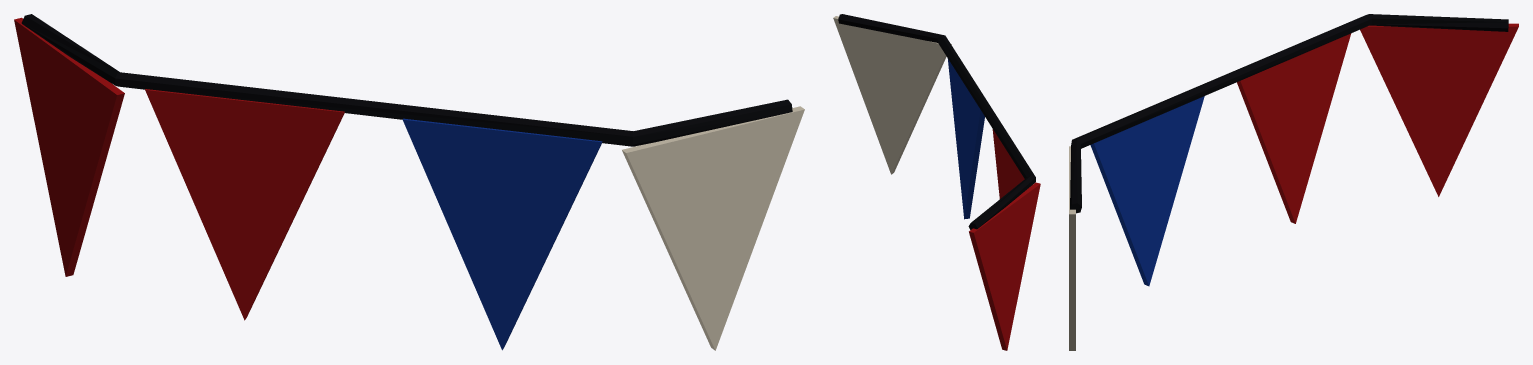
Rendered from Carnival_Run_Flags_InnerCorner.fbx.
3 views of the same model, side by side, from view 1: azimuth 30°, elevation 25°; view 2: azimuth 150°, elevation 25°; view 3: azimuth 270°, elevation 25° (orthographic). The views are drawn at different scales.
Parts seen in each view (by area): view 1: Carnival_Run_Flags_InnerCorner; view 2: Carnival_Run_Flags_InnerCorner; view 3: Carnival_Run_Flags_InnerCorner.
Boxes of the visible parts, x1,y1,x2,y2 form: Carnival_Run_Flags_InnerCorner: (14, 14, 804, 350); Carnival_Run_Flags_InnerCorner: (833, 14, 1040, 350); Carnival_Run_Flags_InnerCorner: (1069, 14, 1518, 350).
Size of the model in its own units: 0.645 by 0.2905 by 0.645.
